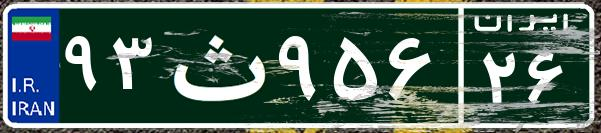2: (475, 38, 525, 113)
3: (110, 28, 158, 105)
5: (330, 28, 385, 110)
6: (385, 28, 445, 110), (525, 38, 570, 115)
9: (273, 28, 330, 110), (57, 26, 110, 107)
ث: (158, 15, 273, 115)
